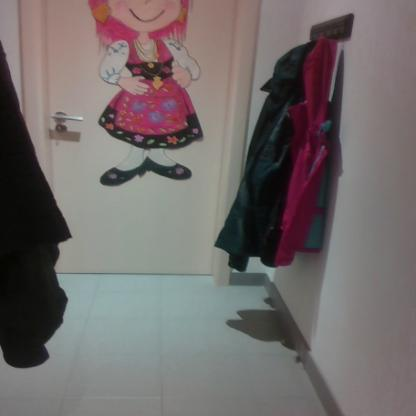door: (45, 0, 220, 274)
lever: (50, 111, 86, 124)
